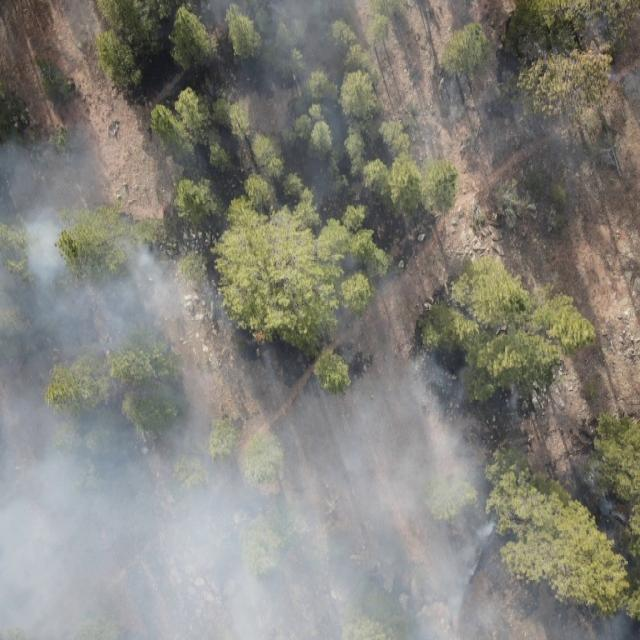fire: (254, 330, 266, 348)
smoke: (0, 122, 493, 640), (198, 0, 640, 121), (493, 440, 640, 640), (493, 121, 640, 254), (494, 382, 542, 442)
